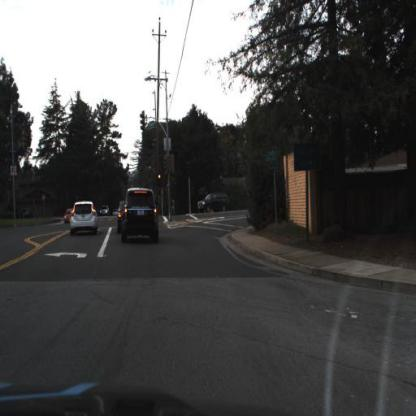car: (121, 189, 159, 245), (70, 201, 100, 238), (198, 189, 231, 214)
trafficLight-Red: (157, 173, 163, 186), (9, 178, 14, 192)
